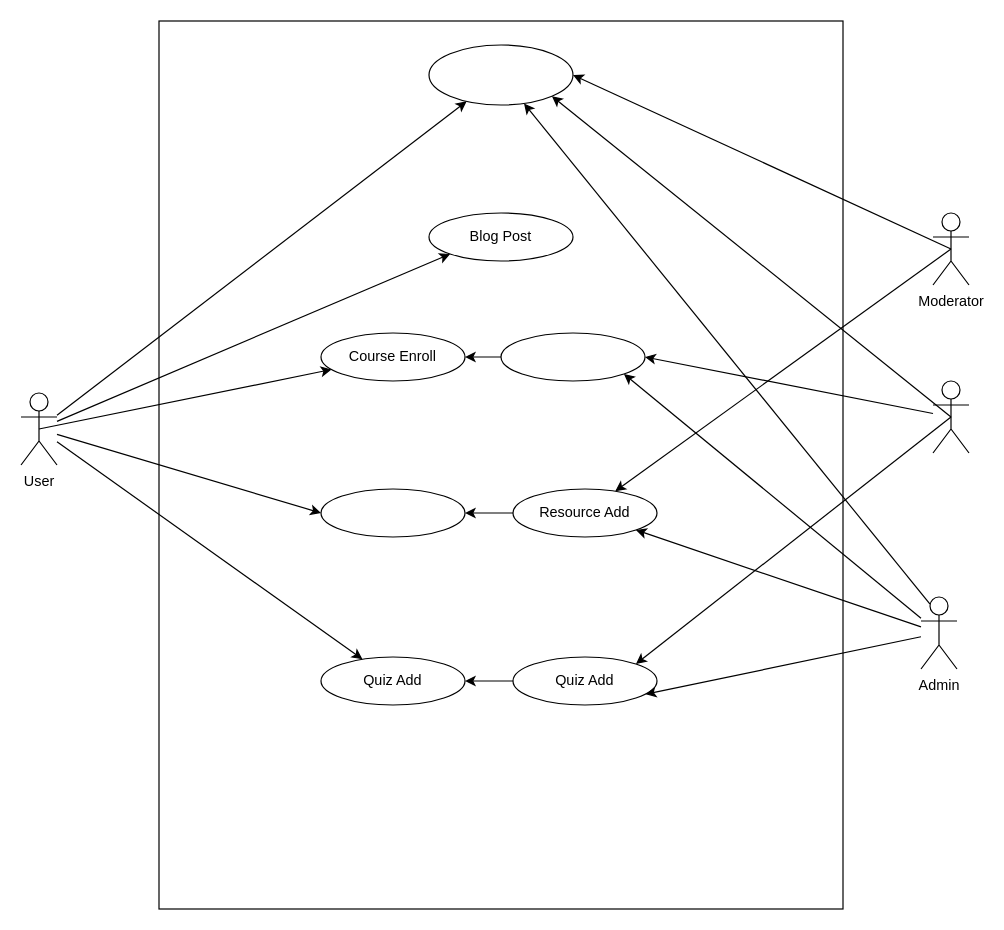
Some shapes in this 1004 by 930 pixel diagram are drawn without their labels. The centre of each missing label's shape, as x and y in pixels:
Authentication: the point at 500,74
Course Add: the point at 572,356
Instructor: the point at 950,416
Resource Access: the point at 392,512
